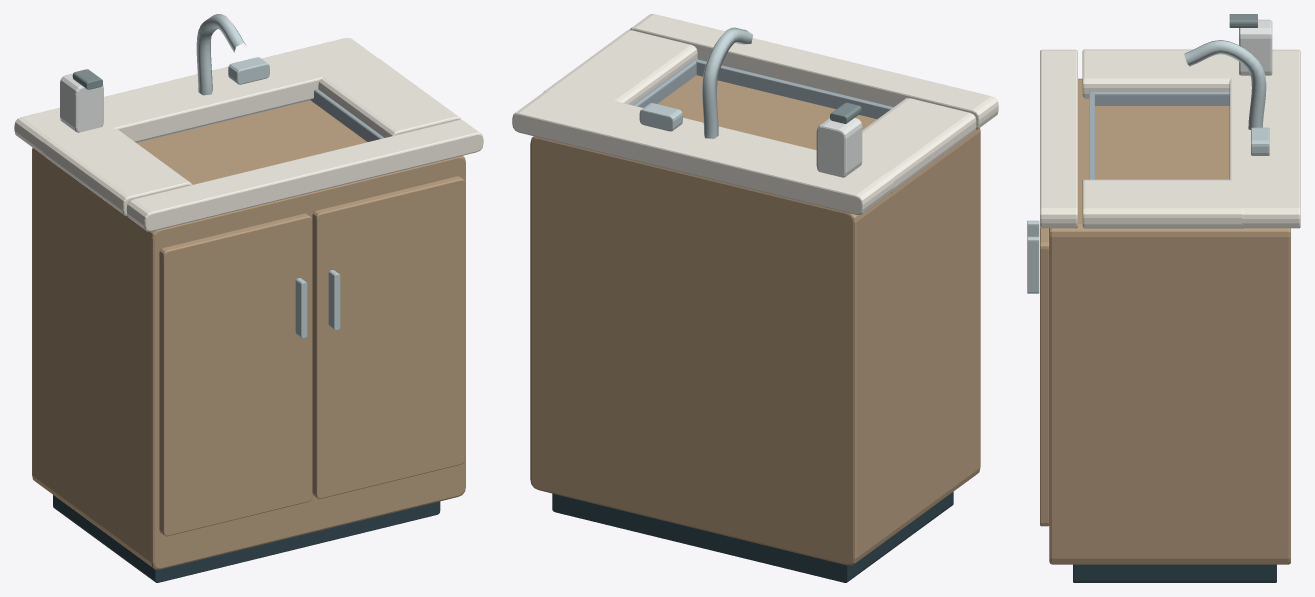
File: sink.glb
3 views of the same model, side by side, from view 1: azimuth 30°, elevation 25°; view 2: azimuth 150°, elevation 25°; view 3: azimuth 270°, elevation 25° (orthographic). The views are drawn at different scales.
Parts seen in each view (by area): view 1: sink-batch (×5), soap-dispenser; view 2: sink-batch (×5), soap-dispenser; view 3: sink-batch (×5), soap-dispenser, sink.
Boxes of the visible parts, left/top/right/bottom form: sink-batch (×5): left=14, top=14, right=483, bottom=582; soap-dispenser: left=60, top=73, right=103, bottom=132; sink-batch (×5): left=512, top=14, right=998, bottom=582; soap-dispenser: left=816, top=117, right=862, bottom=177; sink-batch (×5): left=1027, top=40, right=1300, bottom=582; soap-dispenser: left=1239, top=19, right=1272, bottom=75; sink: left=1229, top=14, right=1257, bottom=27.
Size of the model in its own units: 0.82 by 1.11 by 0.5765.
